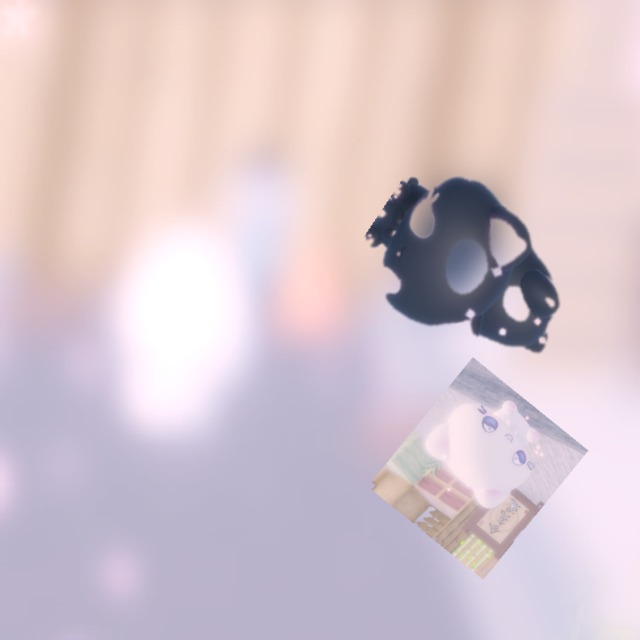urso_branco: (367, 357, 589, 580)
urso_preto: (331, 140, 617, 411)
